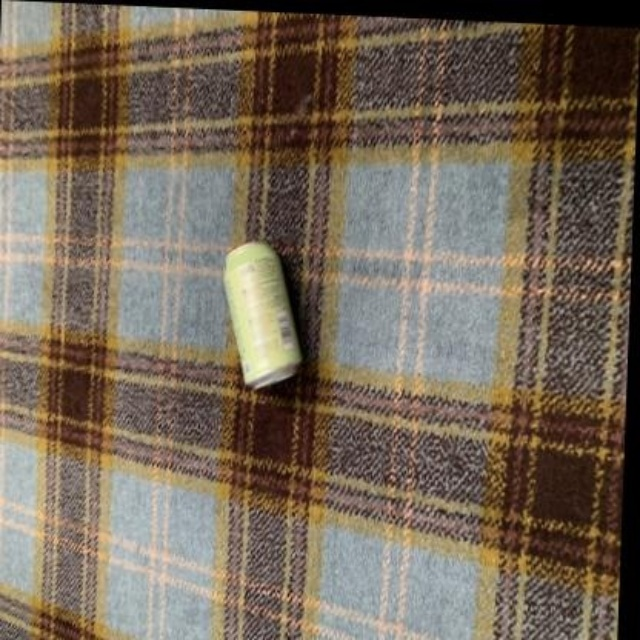trash: (223, 242, 300, 388)
